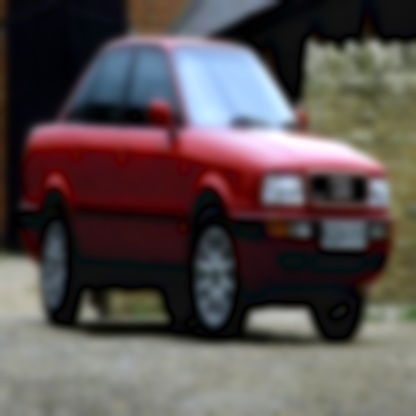Vehicle: (21, 37, 394, 346)
